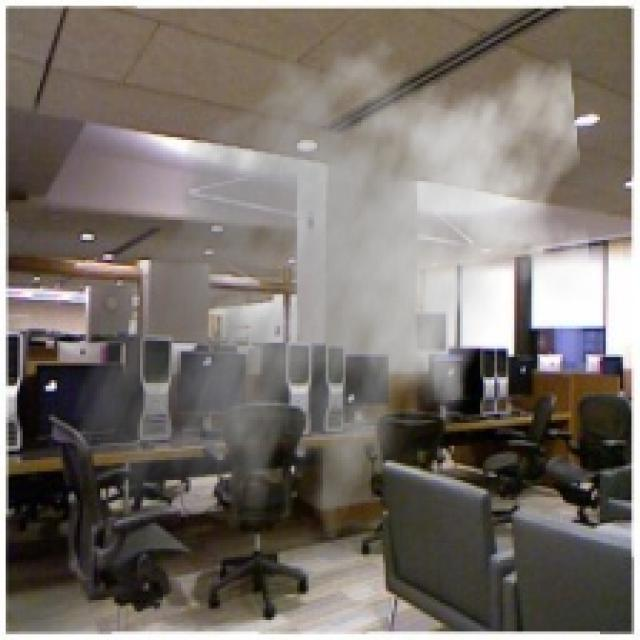Smoke: (68, 19, 594, 574)
